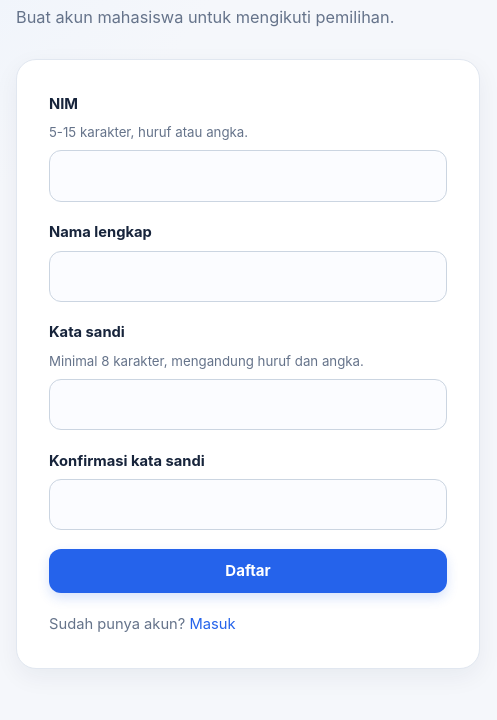
Test: halaman autentikasi › register memvalidasi input sebelum dikirim
The width and height of the screenshot is (497, 720).
(page scrolled)
Click the button "Daftar": coordinates (248, 571) [49,549,447,594]
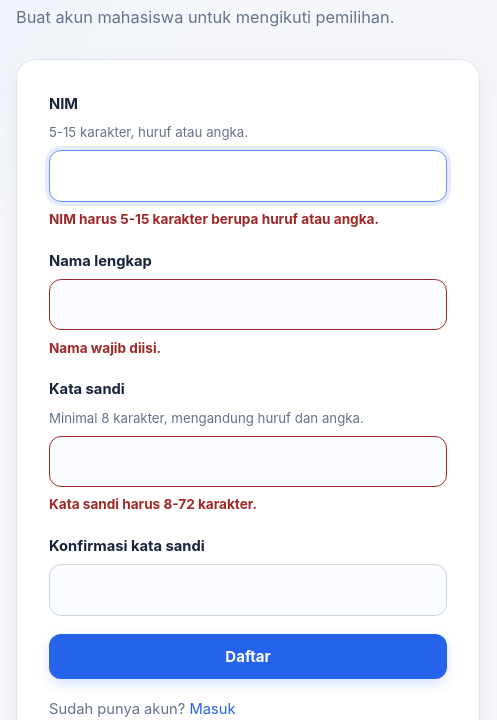
Expected: the text "NIM harus 5-15 karakter berupa huruf atau angka." is shown, [49,211,379,227]
